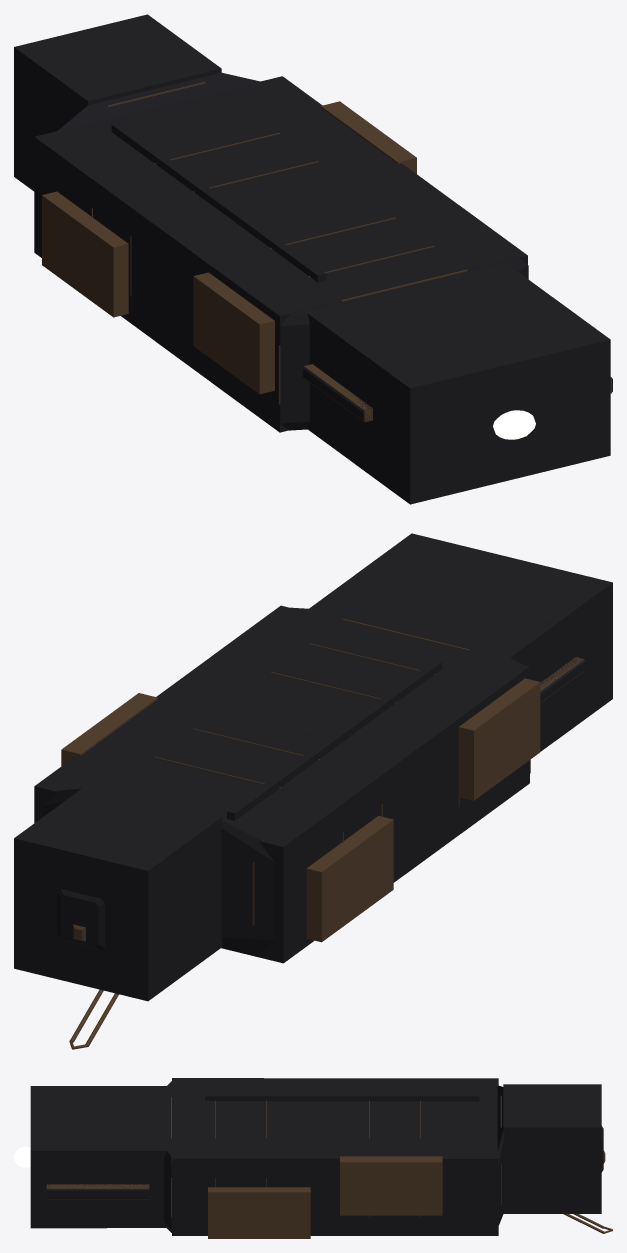
The picture shows the model from 3 angles, top to bottom: view 1: azimuth 30°, elevation 25°; view 2: azimuth 150°, elevation 25°; view 3: azimuth 270°, elevation 25°; orthographic projection. The views are drawn at different scales.
Visible parts, largest first — view 1: RIMWARD_HULL, RIMWARD_ENGINE_GLOW; view 2: RIMWARD_HULL; view 3: RIMWARD_HULL, RIMWARD_ENGINE_GLOW.
Boxes of the visible parts, x1,y1,x2,y2 form: RIMWARD_HULL: [14, 14, 612, 504]; RIMWARD_ENGINE_GLOW: [493, 410, 535, 439]; RIMWARD_HULL: [14, 533, 612, 1049]; RIMWARD_HULL: [30, 1078, 612, 1238]; RIMWARD_ENGINE_GLOW: [14, 1146, 30, 1167].
Size of the model in its own units: 29.2 by 18.87 by 81.74.
